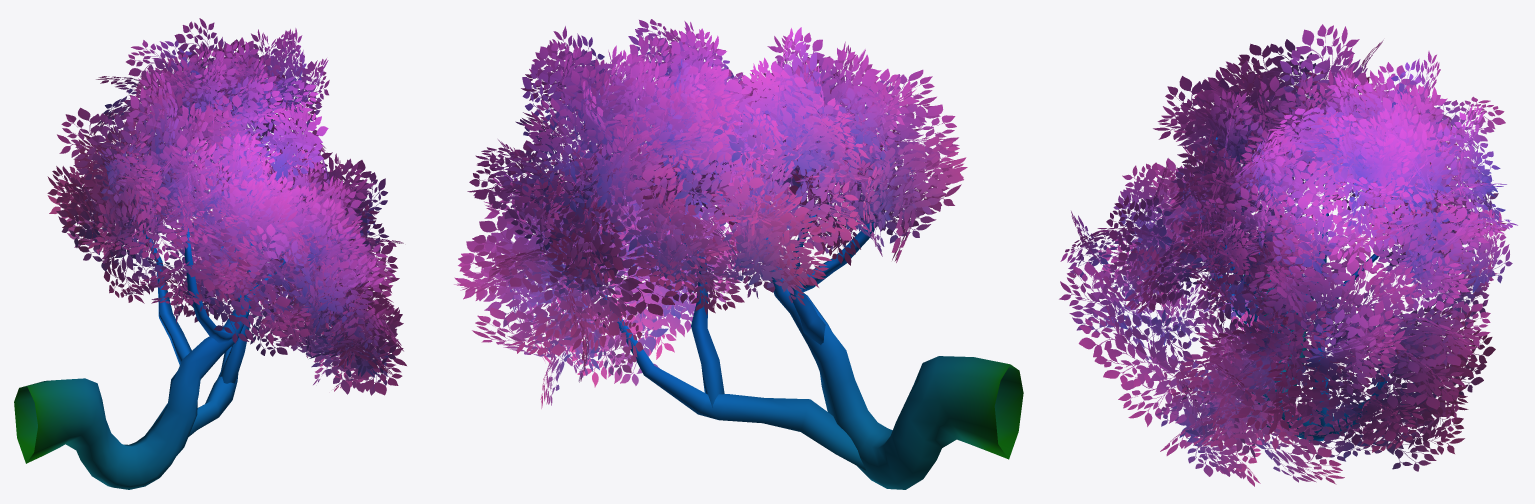
Rendered from Tree.fbx.
3 renders of one model, left to right at view 1: azimuth 30°, elevation 25°; view 2: azimuth 150°, elevation 25°; view 3: azimuth 270°, elevation 25°, orthographic. The views are drawn at different scales.
Parts seen in each view (by area): view 1: leaves, Trunk; view 2: leaves, Trunk; view 3: leaves, Trunk.
Boxes of the visible parts, x1,y1,x2,y2 form: leaves: (47, 18, 406, 395); Trunk: (14, 187, 285, 489); leaves: (454, 19, 967, 408); Trunk: (603, 135, 1023, 489); leaves: (1059, 24, 1517, 486); Trunk: (1209, 137, 1415, 441).
Size of the model in its own units: 875 by 803 by 771.
